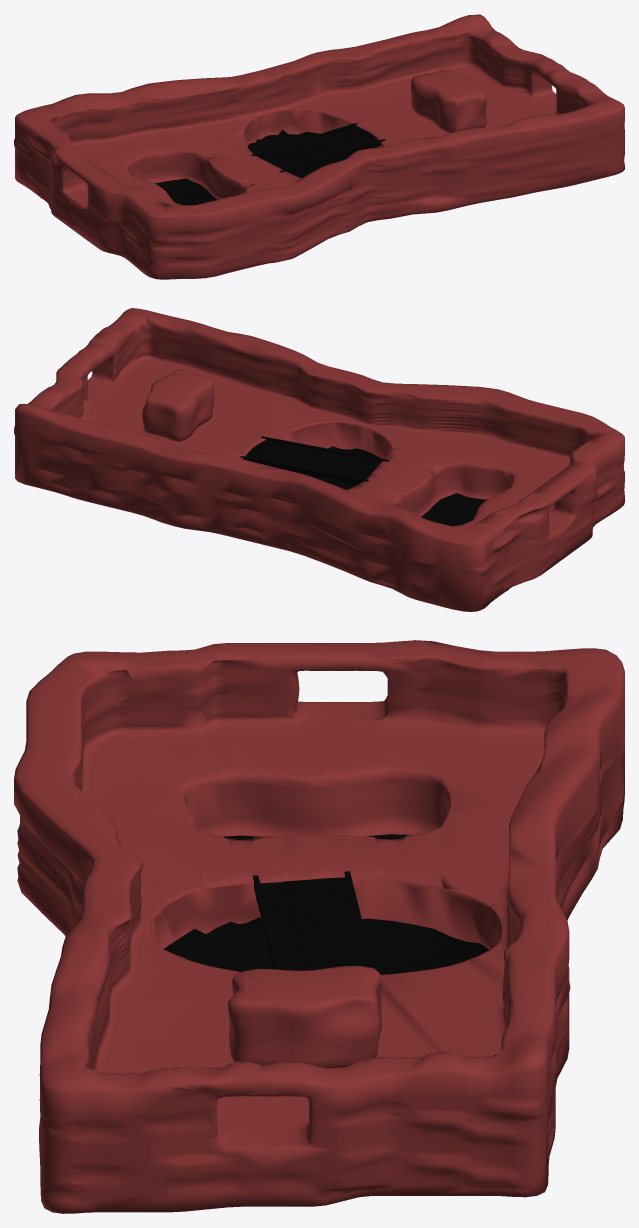
The model's file is CaveRoom4.FBX.
3 views of the same model, one above another, from view 1: azimuth 30°, elevation 25°; view 2: azimuth 150°, elevation 25°; view 3: azimuth 270°, elevation 25° (orthographic). The views are drawn at different scales.
Parts seen in each view (by area): view 1: Box028; view 2: Box028; view 3: Box028.
Part boxes in pixels (<box>): Box028: <box>14,14,624,279</box>; Box028: <box>14,308,624,611</box>; Box028: <box>14,640,624,1213</box>.
Bounding box in the file's own units: 4954 × 811 × 2820.
